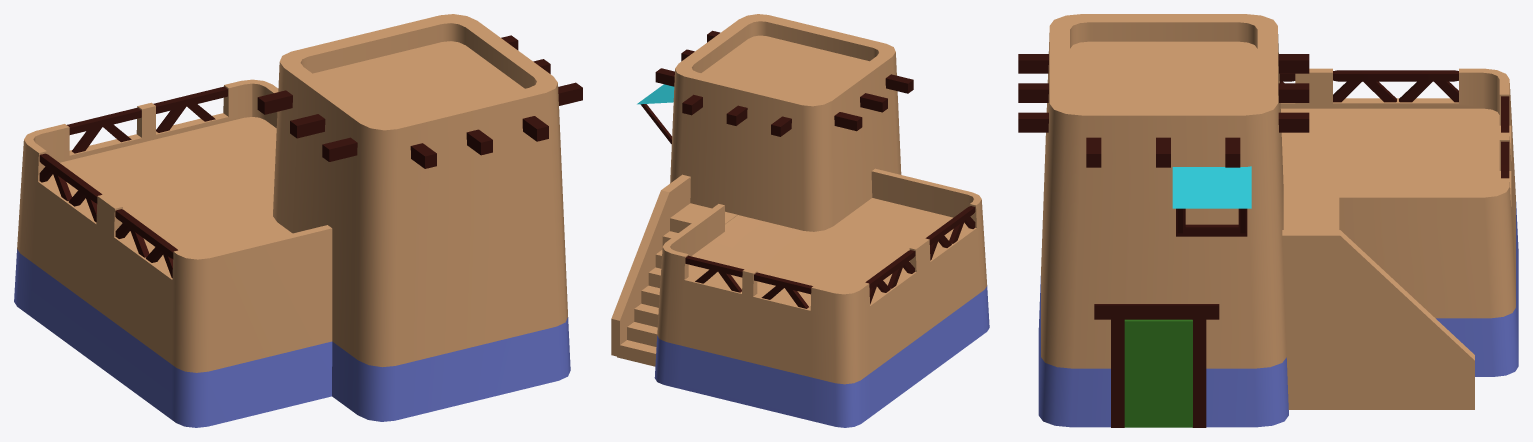
The model's file is house02_low.fbx.
The picture shows the model from 3 angles, left to right: view 1: azimuth 30°, elevation 25°; view 2: azimuth 150°, elevation 25°; view 3: azimuth 270°, elevation 25°; orthographic projection. The views are drawn at different scales.
Visible parts, largest first — view 1: House; view 2: House; view 3: House.
Part boxes in pixels (bbox=[...]): House: bbox=[14, 14, 582, 427]; House: bbox=[611, 14, 989, 427]; House: bbox=[1018, 14, 1518, 427].
Size of the model in its own units: 935 by 645 by 951.
